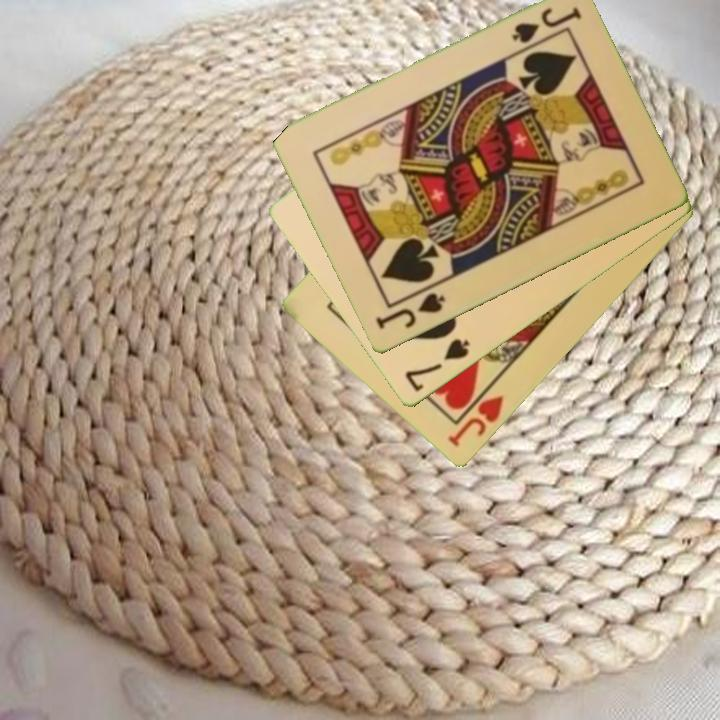7s: (401, 335, 473, 395)
Jh: (443, 377, 507, 450)
Js: (371, 289, 449, 333), (508, 4, 584, 47)
